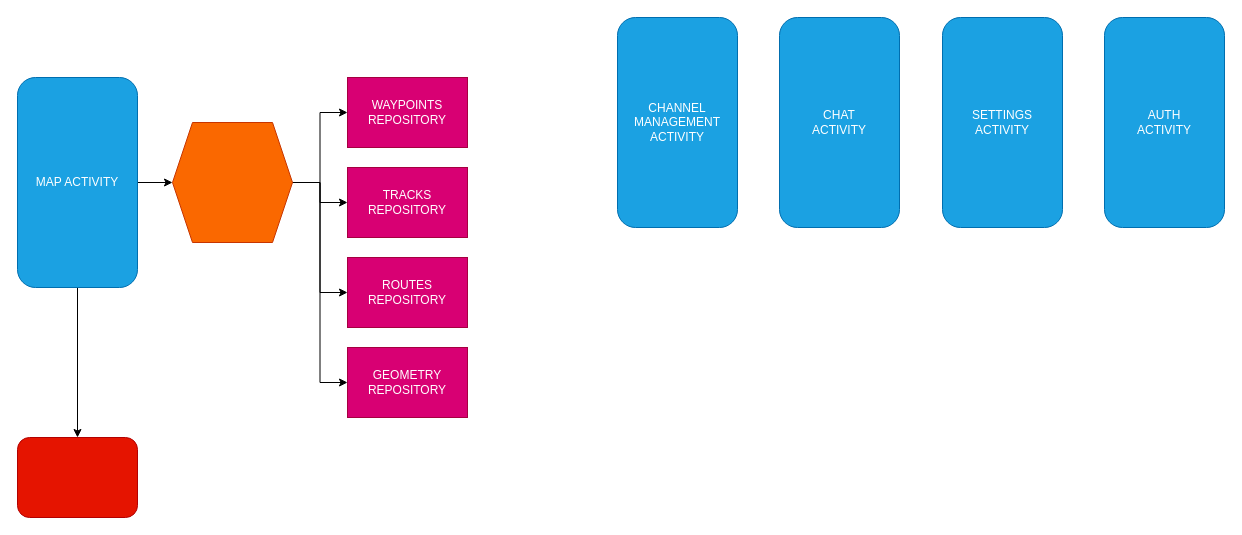
Some shapes in this 1242 by 535 pixel diagram are drawn without their labels. Here are the shapes that lost their labels. From the top down, the centre of each, then its label:
At point 232,182: "MAP VIEWMODEL".
At point 77,477: "MAPVIEW SCREEN".
